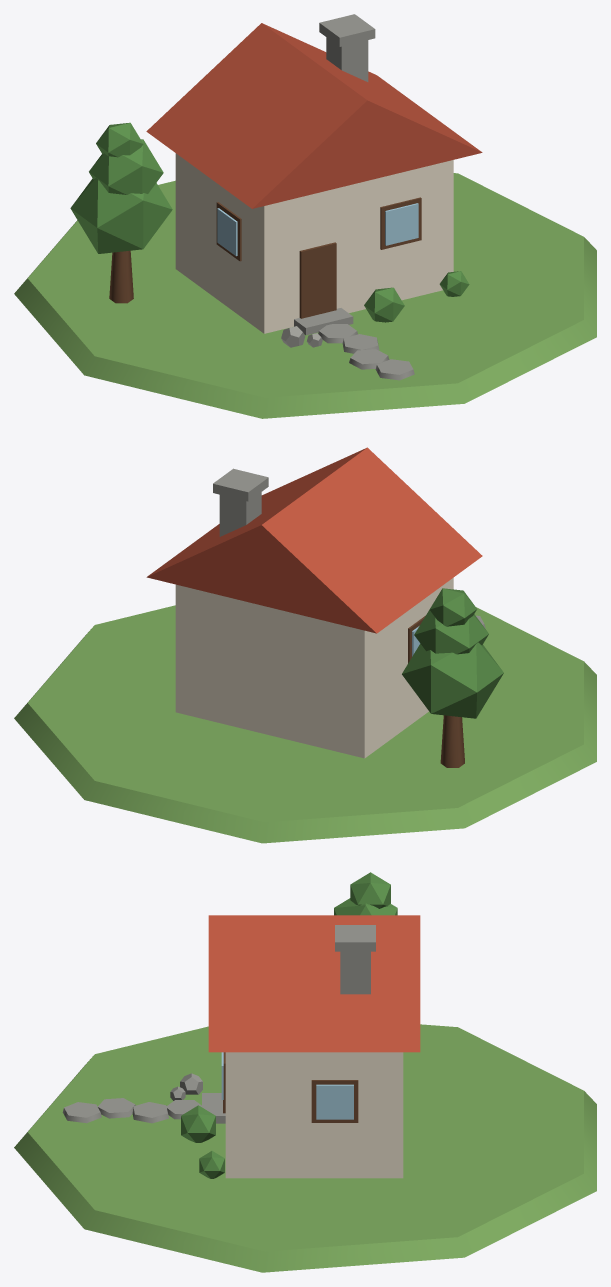
Rendered from low-poly-house.glb.
The picture shows the model from 3 angles, top to bottom: view 1: azimuth 30°, elevation 25°; view 2: azimuth 150°, elevation 25°; view 3: azimuth 270°, elevation 25°; orthographic projection.
Visible parts, largest first — view 1: ground, roof, walls, treeCanopyBottom, door, treeCanopyMid, chimney, chimneyCap, windowFront, treeCanopyTop, treeTrunk, bush1 (+8 smaller); view 2: ground, roof, walls, treeCanopyBottom, treeCanopyMid, treeCanopyTop, chimney, chimneyCap, treeTrunk; view 3: ground, roof, walls, windowSideR, chimney, treeCanopyTop, chimneyCap, bush1, windowFrameSideR, treeCanopyMid, pathSlab4, pathSlab2 (+2 smaller).
Part boxes in pixels (bbox=[...]): ground: bbox=[14, 173, 596, 418]; roof: bbox=[146, 23, 482, 208]; walls: bbox=[175, 153, 453, 333]; treeCanopyBottom: bbox=[70, 178, 172, 253]; door: bbox=[299, 242, 336, 318]; treeCanopyMid: bbox=[89, 139, 163, 194]; chimney: bbox=[326, 37, 368, 81]; chimneyCap: bbox=[319, 14, 375, 46]; windowFront: bbox=[385, 203, 418, 245]; treeCanopyTop: bbox=[96, 122, 143, 157]; treeTrunk: bbox=[109, 250, 133, 303]; bush1: bbox=[364, 287, 404, 322]; ground: bbox=[14, 605, 596, 843]; roof: bbox=[146, 447, 482, 633]; walls: bbox=[175, 578, 453, 758]; treeCanopyBottom: bbox=[402, 642, 503, 718]; treeCanopyMid: bbox=[414, 610, 488, 654]; treeCanopyTop: bbox=[429, 588, 476, 626]; chimney: bbox=[219, 492, 261, 536]; chimneyCap: bbox=[213, 468, 268, 501]; treeTrunk: bbox=[440, 715, 464, 767]; ground: bbox=[14, 1024, 596, 1272]; roof: bbox=[208, 915, 420, 1052]; walls: bbox=[225, 1052, 403, 1178]; windowSideR: bbox=[316, 1084, 353, 1119]; chimney: bbox=[340, 951, 370, 994]; treeCanopyTop: bbox=[350, 872, 390, 908]; chimneyCap: bbox=[335, 925, 375, 951]; bush1: bbox=[181, 1105, 215, 1142]; windowFrameSideR: bbox=[311, 1080, 358, 1122]; treeCanopyMid: bbox=[334, 898, 397, 915]; pathSlab4: bbox=[62, 1102, 101, 1123]; pathSlab2: bbox=[132, 1102, 168, 1123].
Bounding box in the file's own units: 8.67 × 3.88 × 8.53.
